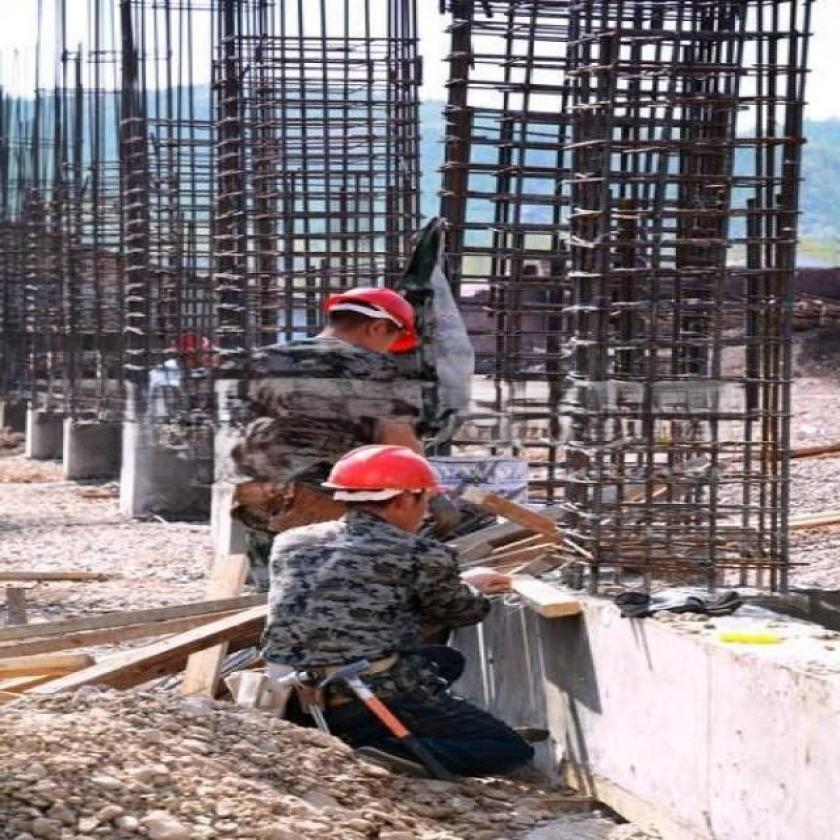Con_casco: (330, 444, 454, 544), (324, 284, 424, 363)
